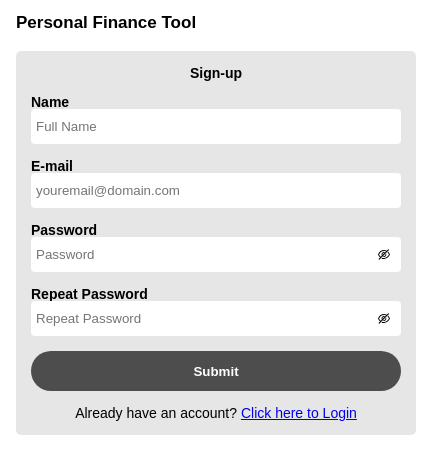
it: Register › Register Form › should show an alert for empty password
This screenshot has width=433, height=468.
Type "email@example.com" into the field with placeholder "youremail@domain.com" at (216, 190), box [31,173,401,208]
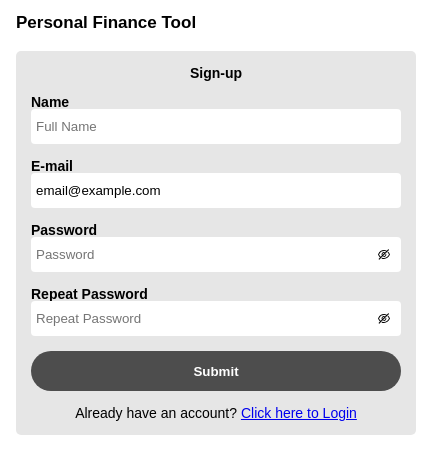
Type "Name" into the field with placeholder "Full Name" at (216, 126), box [31,109,401,144]
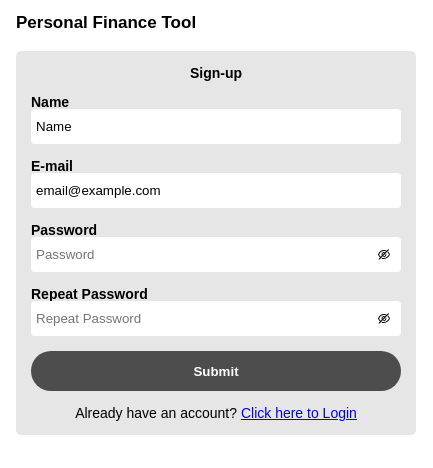
Click the button "Submit" at (216, 371), box [31,351,401,391]
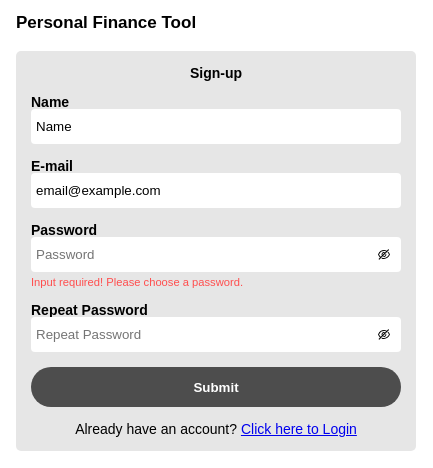
Result: the message reads "Input required! Please choose a password." at [31,276,243,288]
